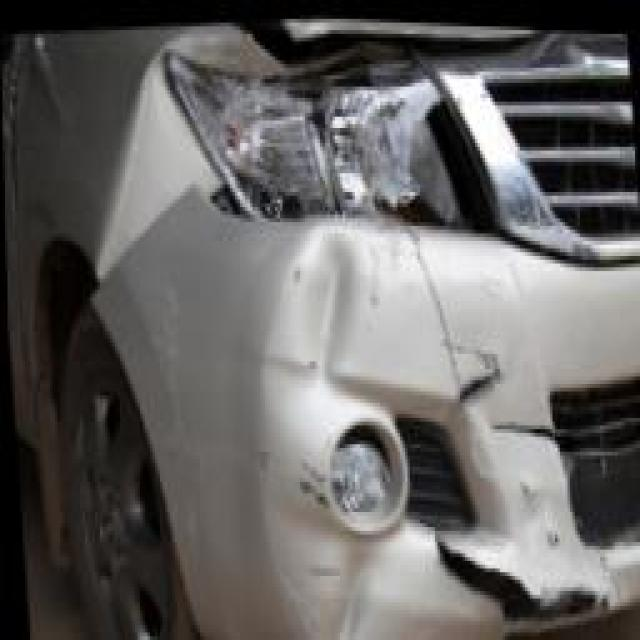Bonnet: (226, 14, 581, 66)
Bumper: (88, 175, 618, 640)
